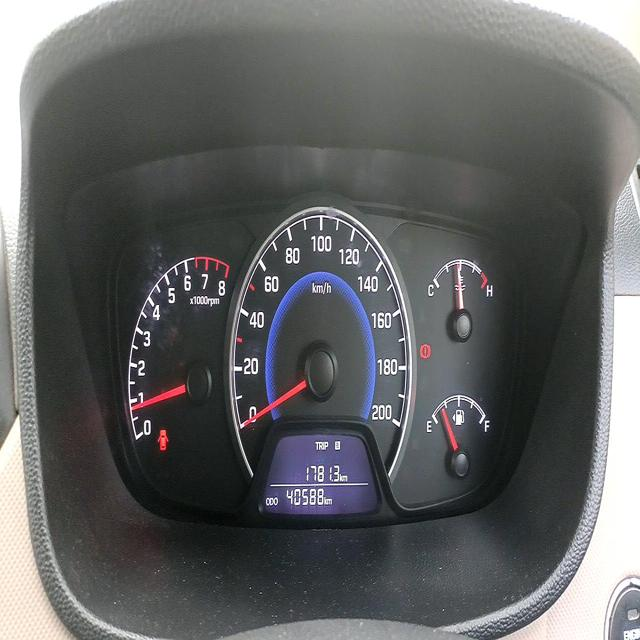odometer: (283, 486, 324, 515)
